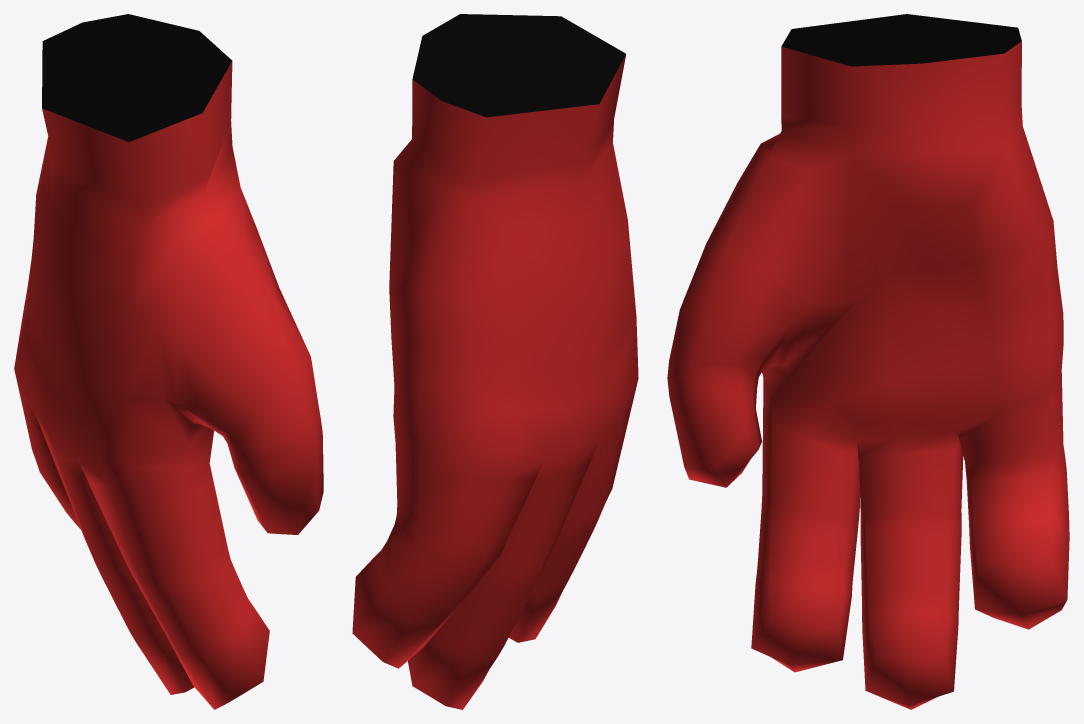
File: hand.glb
The picture shows the model from 3 angles, left to right: view 1: azimuth 30°, elevation 25°; view 2: azimuth 150°, elevation 25°; view 3: azimuth 270°, elevation 25°; orthographic projection. The views are drawn at different scales.
Parts seen in each view (by area): view 1: Object_13; view 2: Object_13; view 3: Object_13.
Boxes of the visible parts, bbox=[...] form: Object_13: bbox=[14, 14, 323, 709]; Object_13: bbox=[352, 14, 638, 709]; Object_13: bbox=[667, 14, 1069, 709].
Size of the model in its own units: 0.367 by 1.23 by 0.6749.
